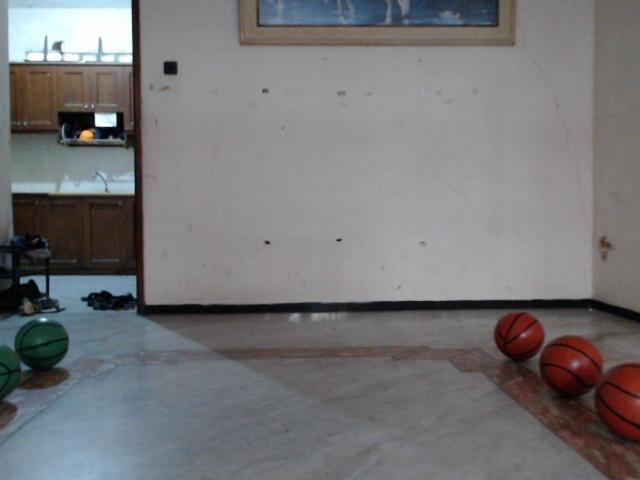Sports-Ball: (537, 330, 605, 399), (14, 310, 72, 372), (595, 362, 640, 436), (489, 311, 544, 364)
